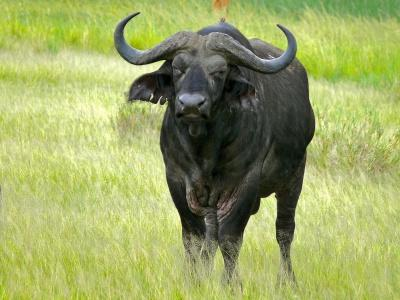buffalo: (116, 13, 314, 289)
